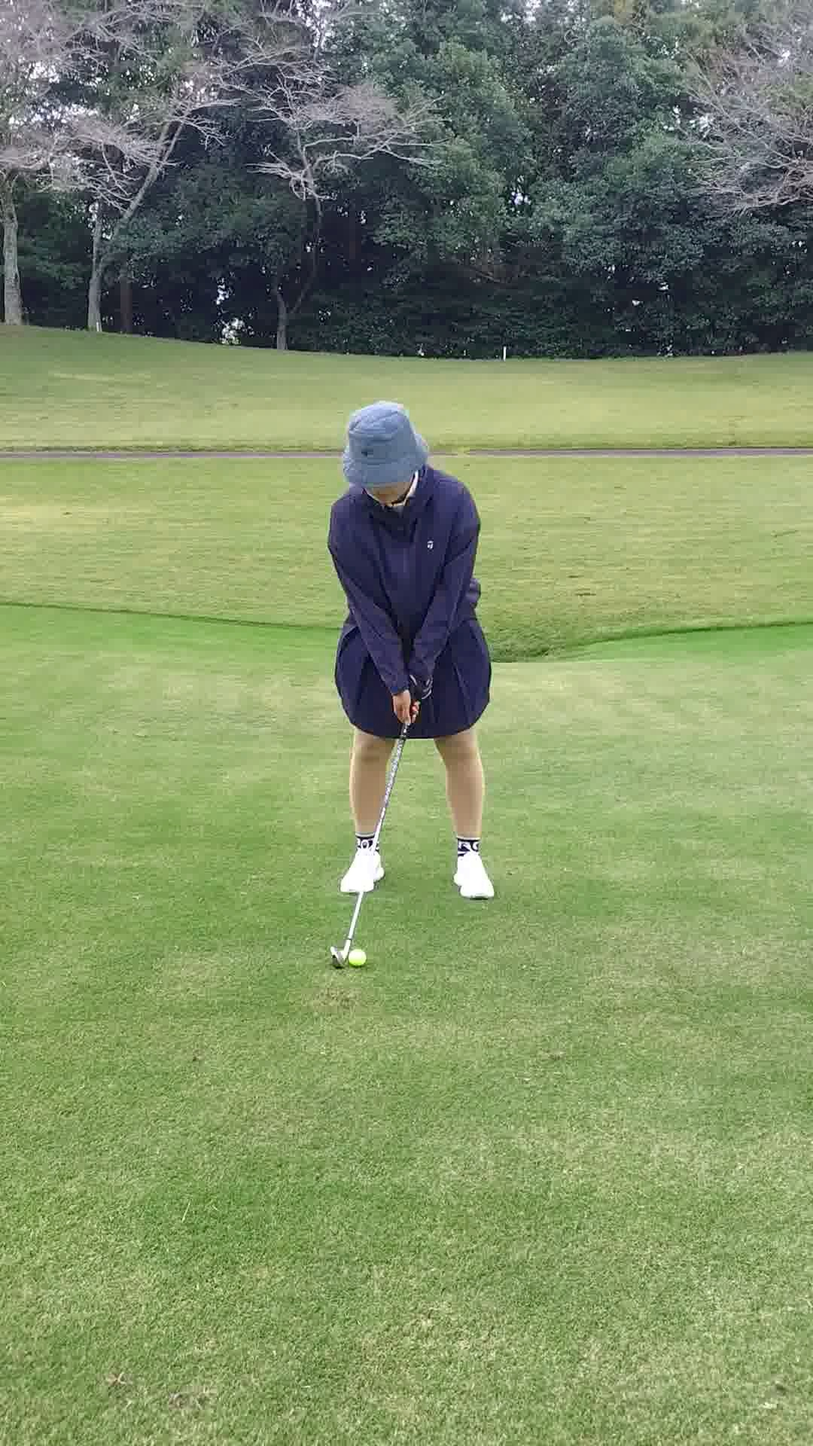clubhead: (305, 888, 403, 1016)
